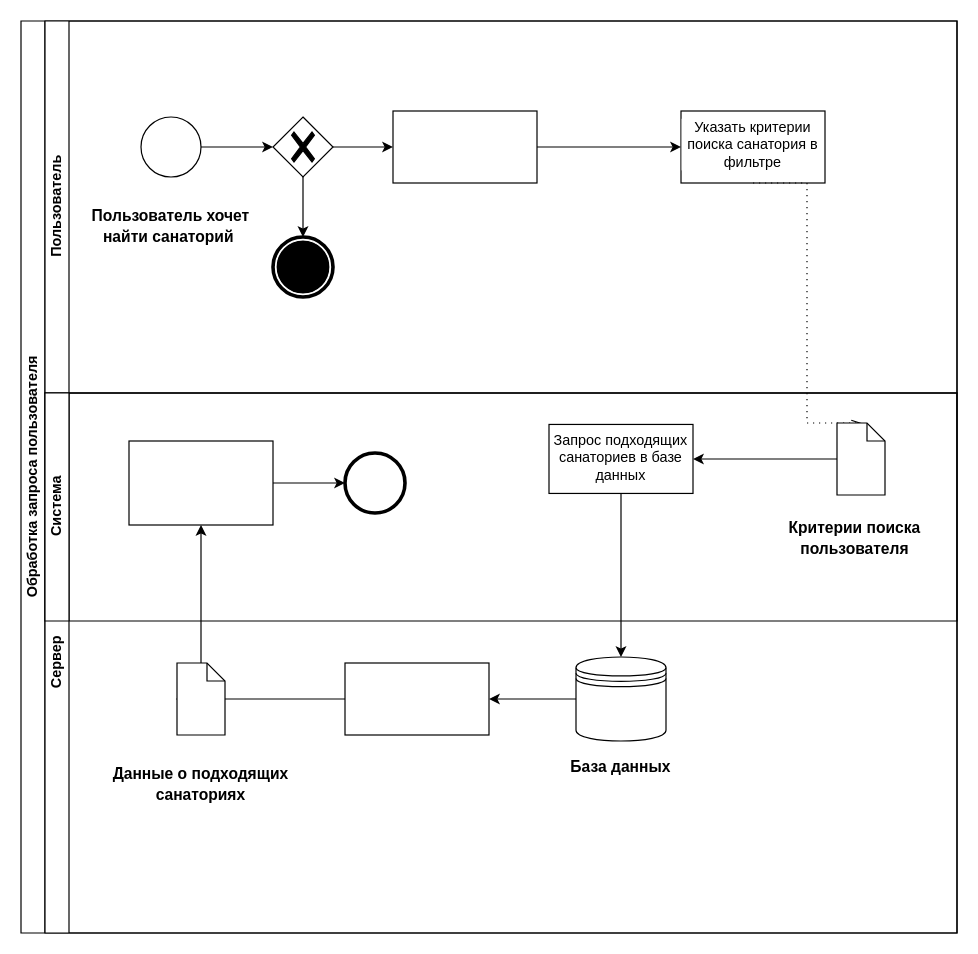
This 978x954 diagram has some shape labels left out. The shapes that lost their labels are listed below. From the top down, each one's centre as x and y in pixels, then its label:
At [464,146]: "Открыть мобильное приложение для поиска санатория".
At [200,482]: "Отобразить подборку и информацию о санаториях".
At [416,698]: "Обработка критериев запроса пользователя".
